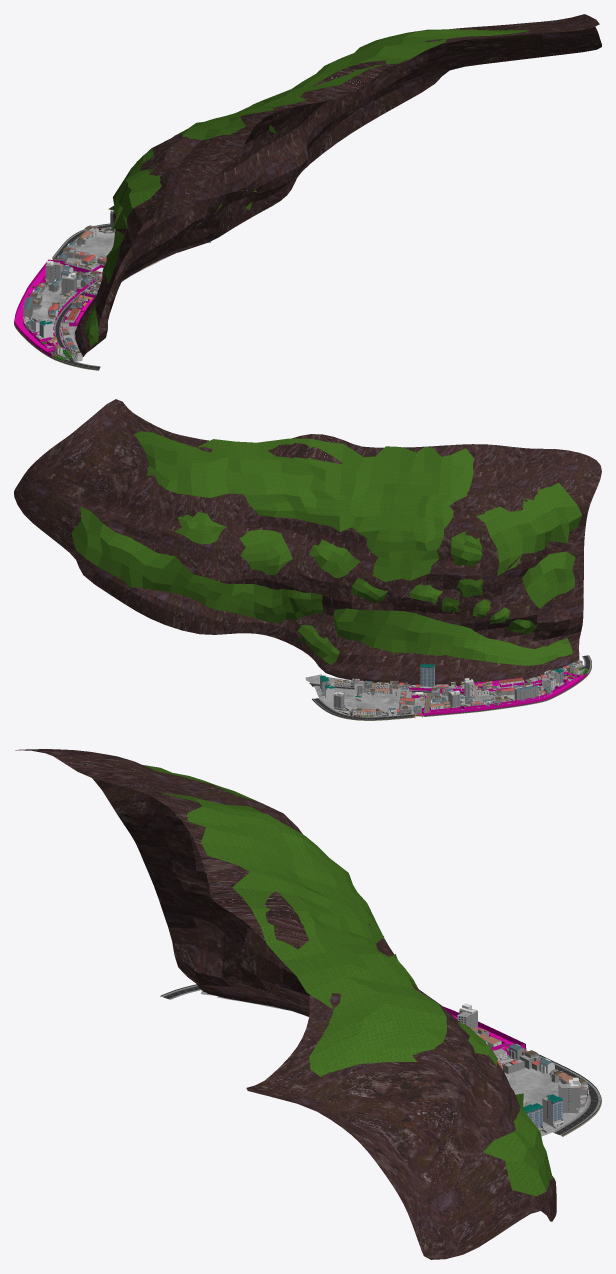
Rendered from Zone1.fbx.
The picture shows the model from 3 angles, top to bottom: view 1: azimuth 30°, elevation 25°; view 2: azimuth 150°, elevation 25°; view 3: azimuth 270°, elevation 25°; orthographic projection. The views are drawn at different scales.
Parts seen in each view (by area): view 1: Rock_LOD0, RockVegetation_LOD0, Zone1GroundA_LOD0, Zone1BuildingsB_LOD0, Zone1BuildingsC_LOD0, Zone1BuildingsA_LOD0, RoadTile1ACol, RoadTile1A_LOD0, Zone1BuildingsPlaceholder; view 2: Rock_LOD0, RockVegetation_LOD0, Zone1GroundA_LOD0, Zone1BuildingsPlaceholder, Zone1BuildingsC_LOD0, Zone1BuildingsB_LOD0, RoadTile1A_LOD0, Zone1BuildingsA_LOD0, RoadTile1ACol; view 3: Rock_LOD0, RockVegetation_LOD0, Zone1BuildingsPlaceholder, Zone1GroundA_LOD0, RoadTile1A_LOD0, Zone1BuildingsC_LOD0.
Part boxes in pixels (box(x1,y1,x2,y2)): Rock_LOD0: box(75, 14, 601, 356); RockVegetation_LOD0: box(85, 29, 529, 347); Zone1GroundA_LOD0: box(30, 228, 211, 361); Zone1BuildingsB_LOD0: box(23, 272, 87, 331); Zone1BuildingsC_LOD0: box(41, 251, 106, 295); Zone1BuildingsA_LOD0: box(31, 317, 82, 361); RoadTile1ACol: box(14, 259, 57, 357); RoadTile1A_LOD0: box(14, 223, 111, 370); Zone1BuildingsPlaceholder: box(62, 210, 115, 258); Rock_LOD0: box(14, 399, 601, 685); RockVegetation_LOD0: box(71, 431, 582, 665); Zone1GroundA_LOD0: box(305, 666, 583, 716); Zone1BuildingsPlaceholder: box(317, 675, 411, 716); Zone1BuildingsC_LOD0: box(399, 664, 468, 713); Zone1BuildingsB_LOD0: box(460, 678, 552, 707); RoadTile1A_LOD0: box(312, 655, 591, 720); Zone1BuildingsA_LOD0: box(525, 660, 583, 690); RoadTile1ACol: box(416, 672, 587, 715); Rock_LOD0: box(15, 749, 556, 1259); RockVegetation_LOD0: box(143, 765, 552, 1196); Zone1BuildingsPlaceholder: box(519, 1050, 588, 1132); Zone1GroundA_LOD0: box(201, 992, 588, 1136); RoadTile1A_LOD0: box(160, 984, 601, 1136); Zone1BuildingsC_LOD0: box(457, 1003, 525, 1073).
Size of what is drawn, in the model's own units: 1178 by 387 by 654.
